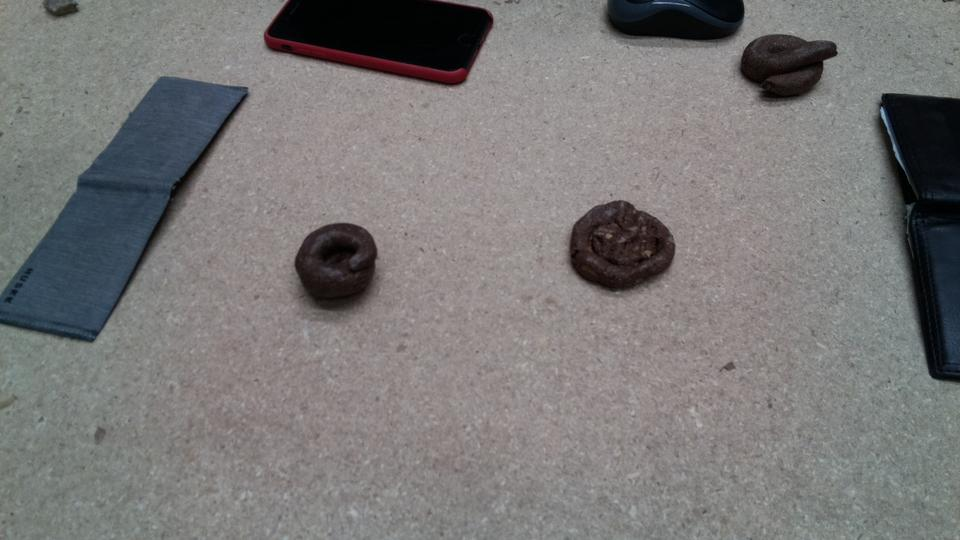poop: (566, 196, 678, 295), (292, 219, 380, 309), (739, 33, 840, 102)
